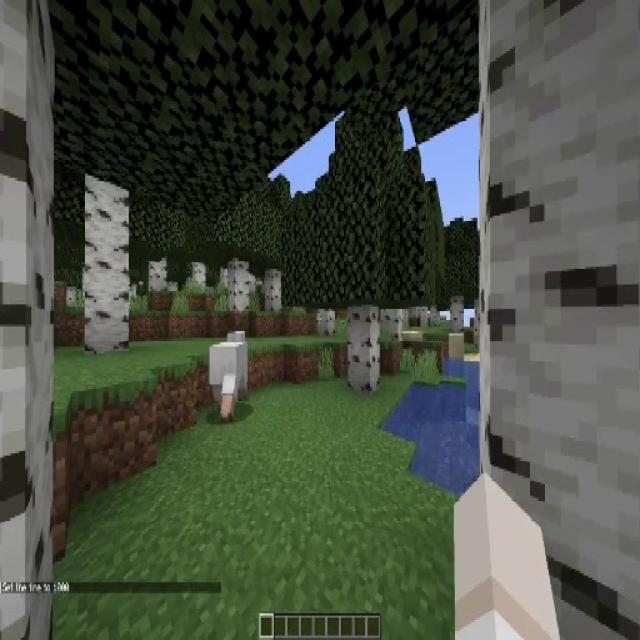birch: (296, 86, 446, 392), (212, 187, 272, 313), (239, 204, 305, 311), (126, 190, 189, 295), (428, 225, 486, 334)
birch_log: (478, 0, 640, 640), (480, 0, 640, 640), (85, 188, 128, 358), (347, 310, 381, 387), (230, 263, 248, 313), (150, 256, 168, 295), (382, 308, 403, 339), (267, 271, 280, 311), (452, 299, 464, 338), (194, 261, 208, 290), (320, 306, 332, 333)
